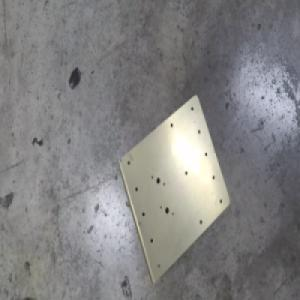MetalSheet: (116, 93, 231, 286)
